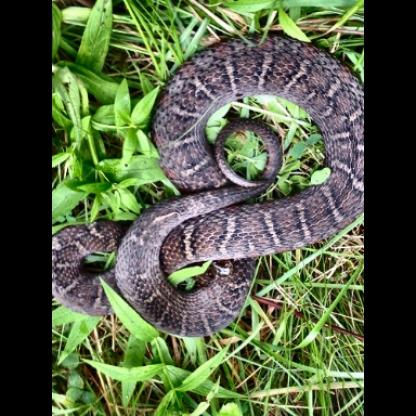Snake: (58, 24, 362, 331)
